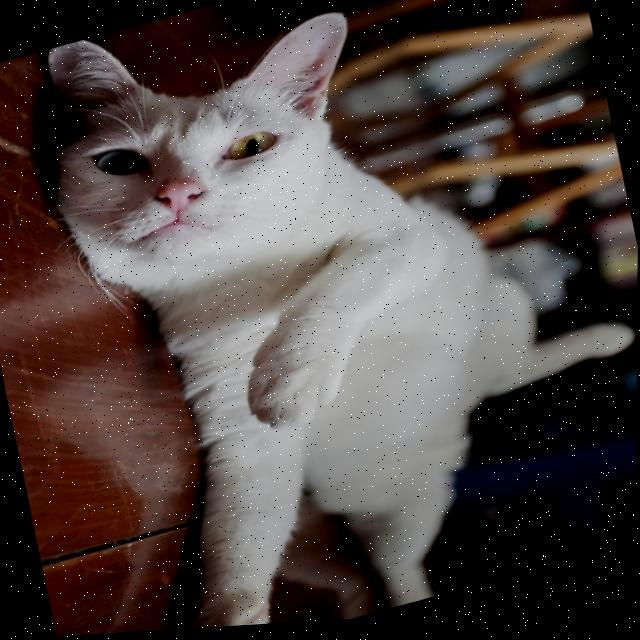Khao Manee: (9, 0, 640, 639)
